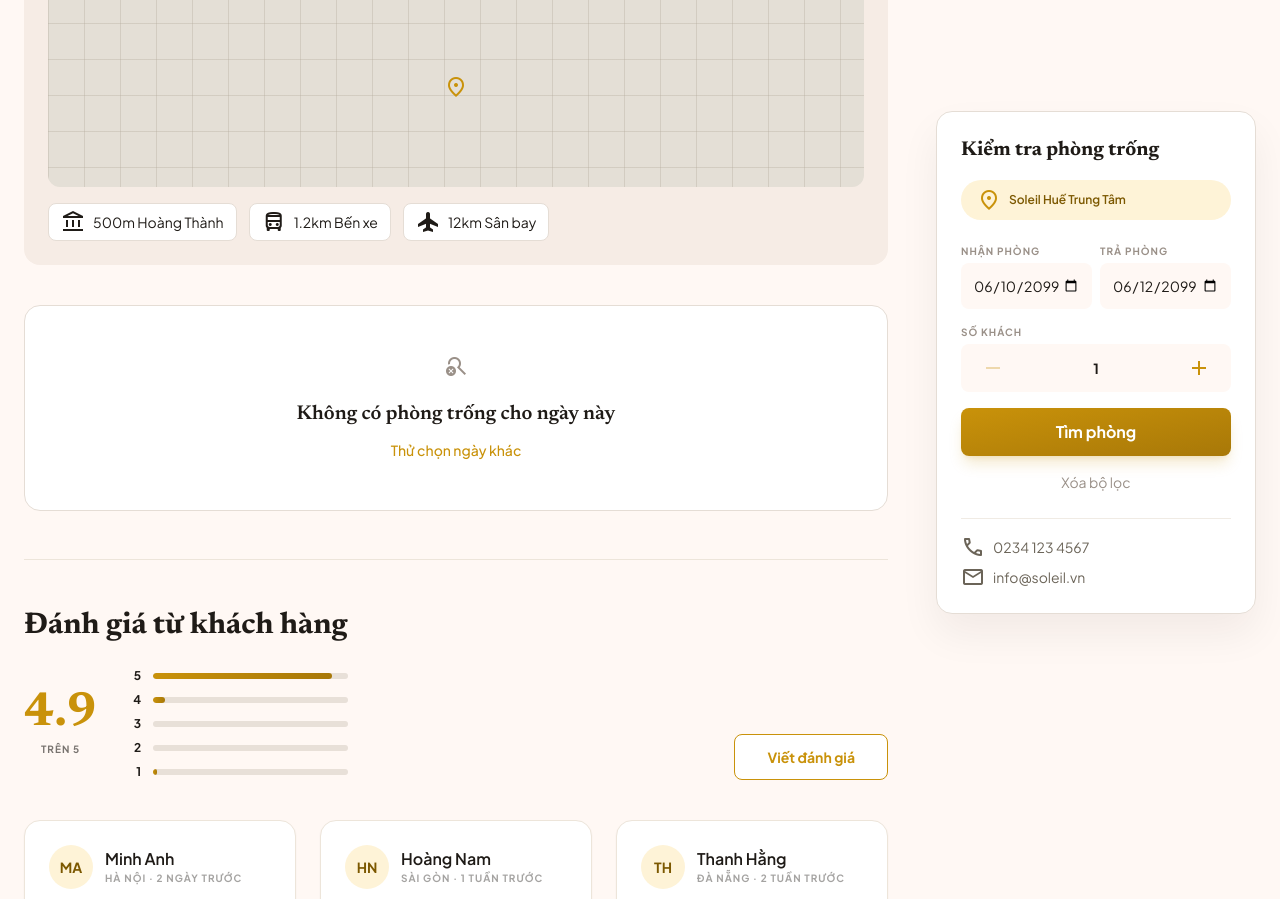
Test: LocationDetail › shows the empty state after a search and lets the guest reset the form
(page scrolled)
Expected: the heading "Không có phòng trống cho ngày này" is shown, left=297, top=404, right=615, bottom=424
Click the button "Thử chọn ngày khác" at [456, 450], box left=391, top=440, right=521, bottom=460
(page scrolled)
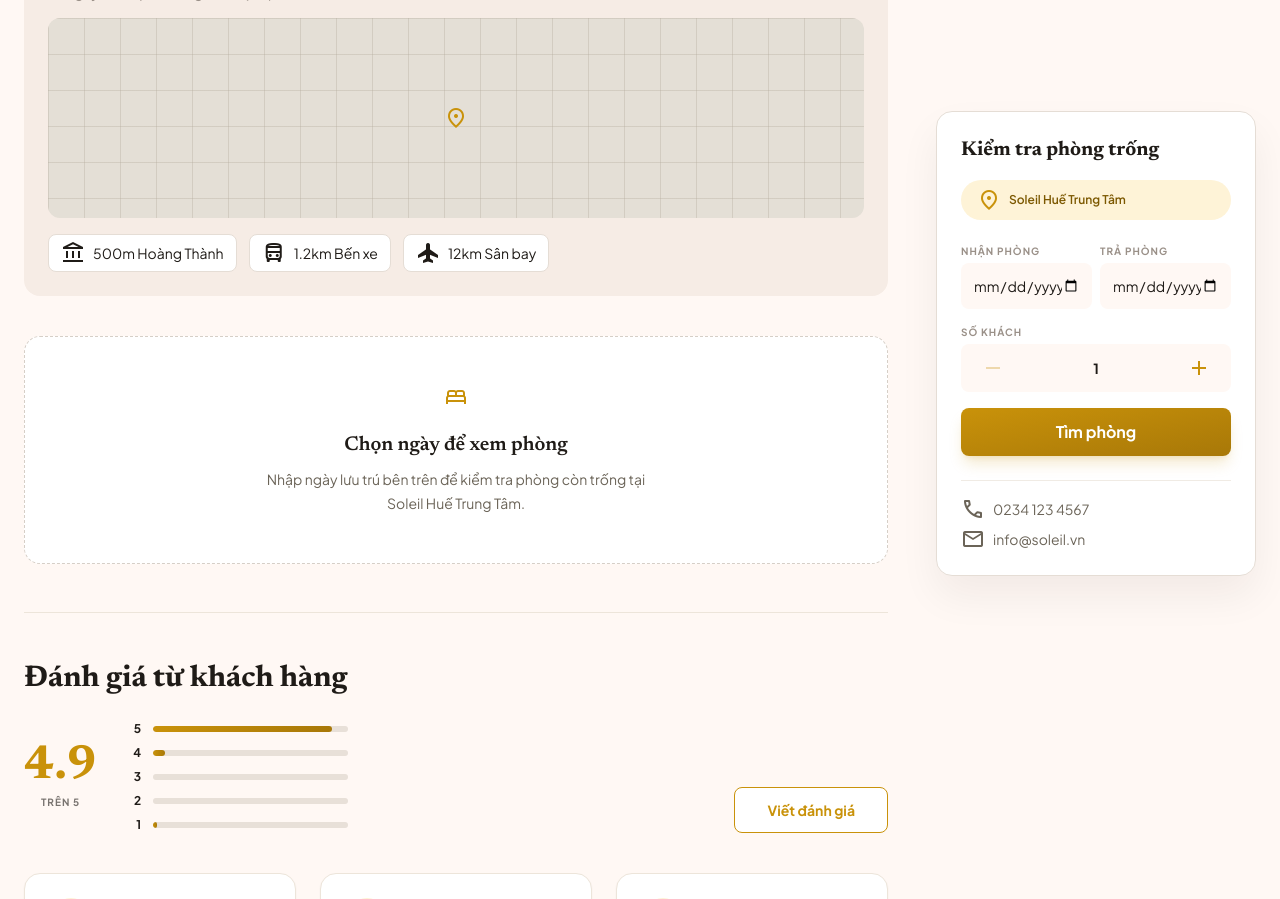
Expected: the element with test id "location-search-prompt" is shown, left=24, top=336, right=888, bottom=564
